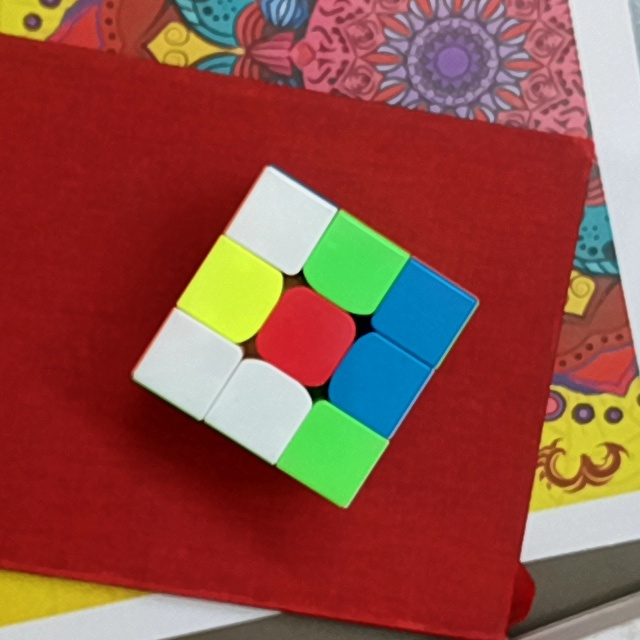tile: (206, 264, 263, 323), (303, 425, 364, 479), (277, 308, 335, 364), (233, 379, 291, 435), (325, 238, 380, 295), (350, 355, 405, 412), (161, 335, 216, 391), (253, 197, 311, 249), (397, 288, 450, 337)
